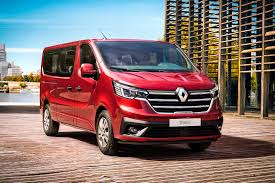van: (38, 38, 224, 156)
